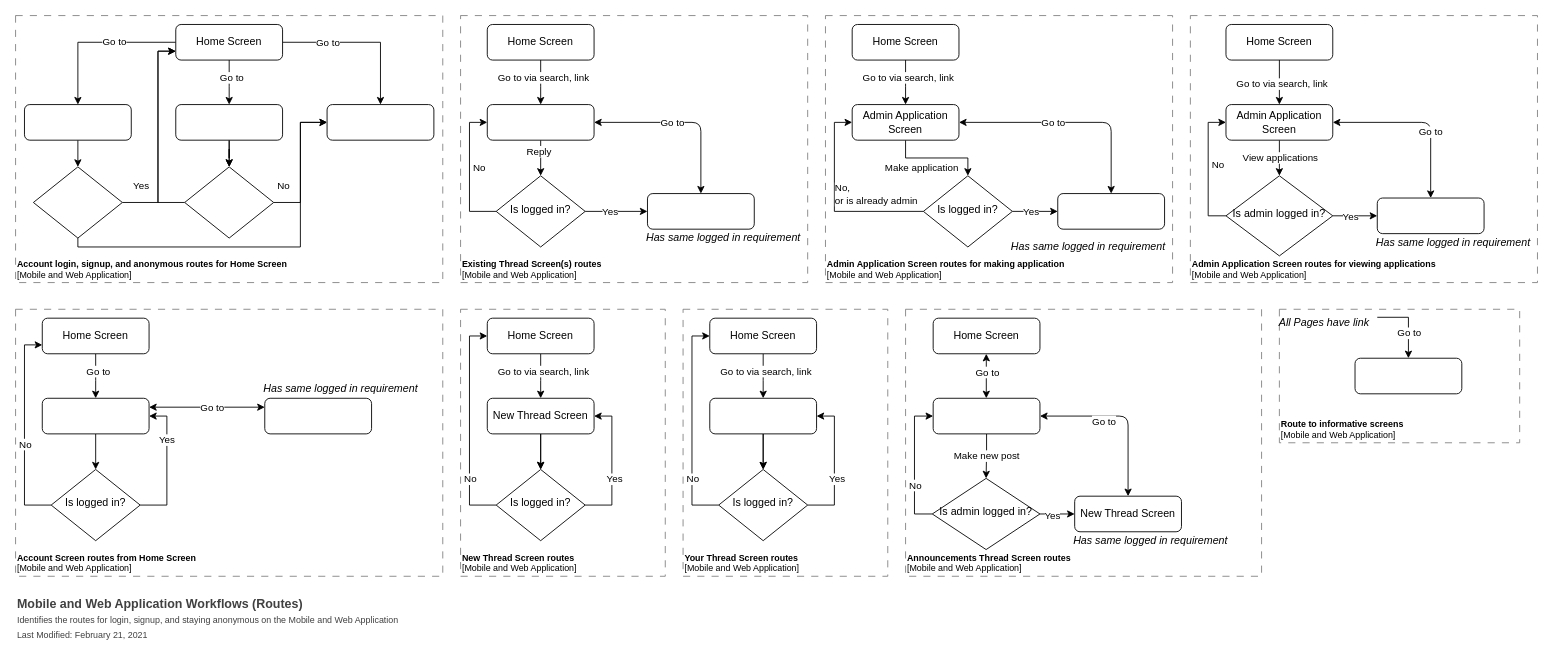
This 1553x657 diagram has some shape labels left out. The shapes that lost their labels are listed below. From the top down, each one's centre as x and y in pixels, then its label:
At (77,122): "Login Screen".
At (229,122): "Signup Screen".
At (380,122): "Stay Anonymous on Home Screen".
At (540,122): "Existing Thread Screen(s)".
At (77,202): "Login?".
At (229,202): "Create Account?".
At (700,211): "Thread Reply Screen".
At (1111,211): "Application Screen".
At (1430,215): "Existing Applications Screen".
At (1408,375): "About Screen/Privacy Statement/Other informative Screen".
At (95,415): "Account Screen".
At (318,415): "Account Editing Screen".
At (763,415): "Your Threads Screen".
At (986,415): "Announcements Thread Screen".
